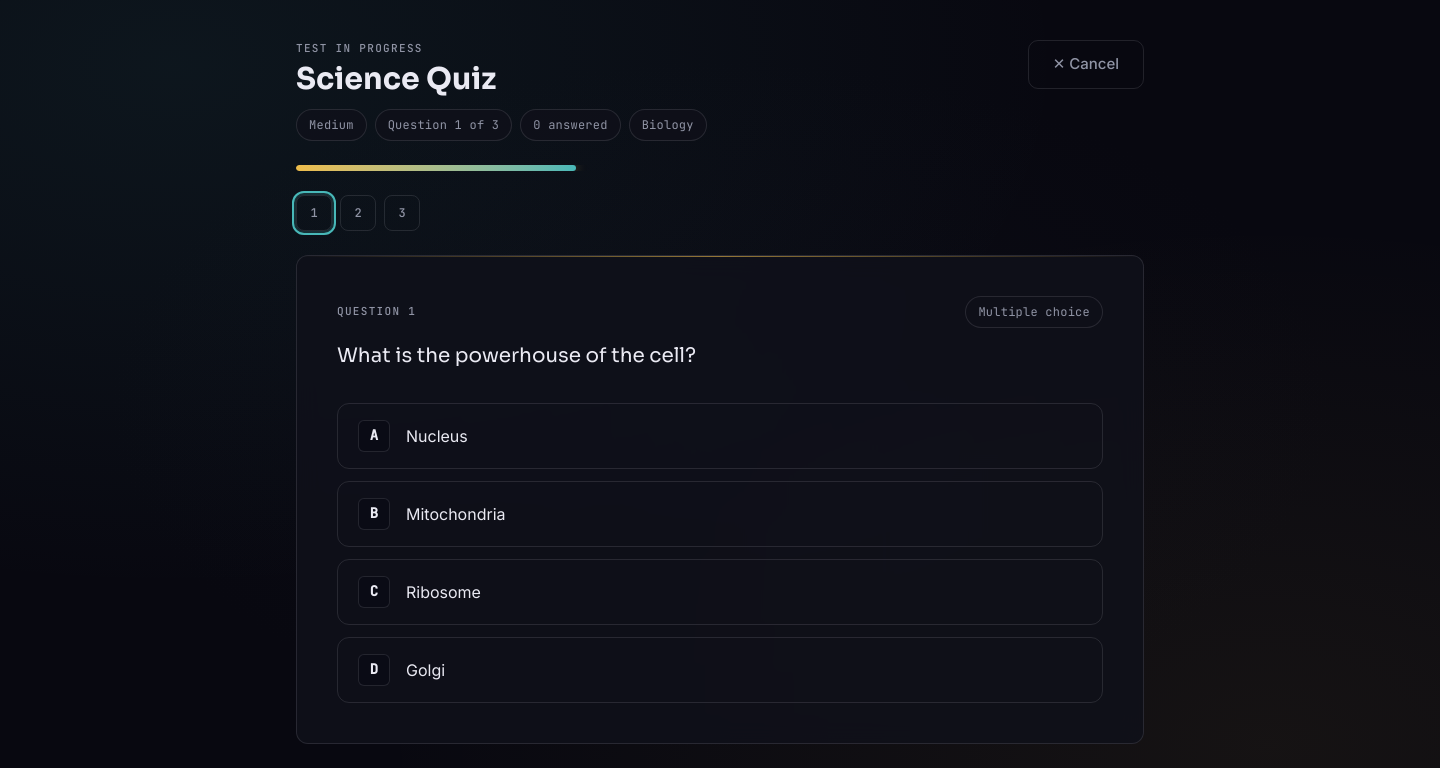
it: TakeTest › shows confirmation modal when Finish Test clicked
Expected: the heading "Science Quiz" is shown, top-left (296, 60), bottom-right (496, 98)
Click the button named "Go to question 3" at {"x": 402, "y": 212}, box top-left (384, 194), bottom-right (420, 230)
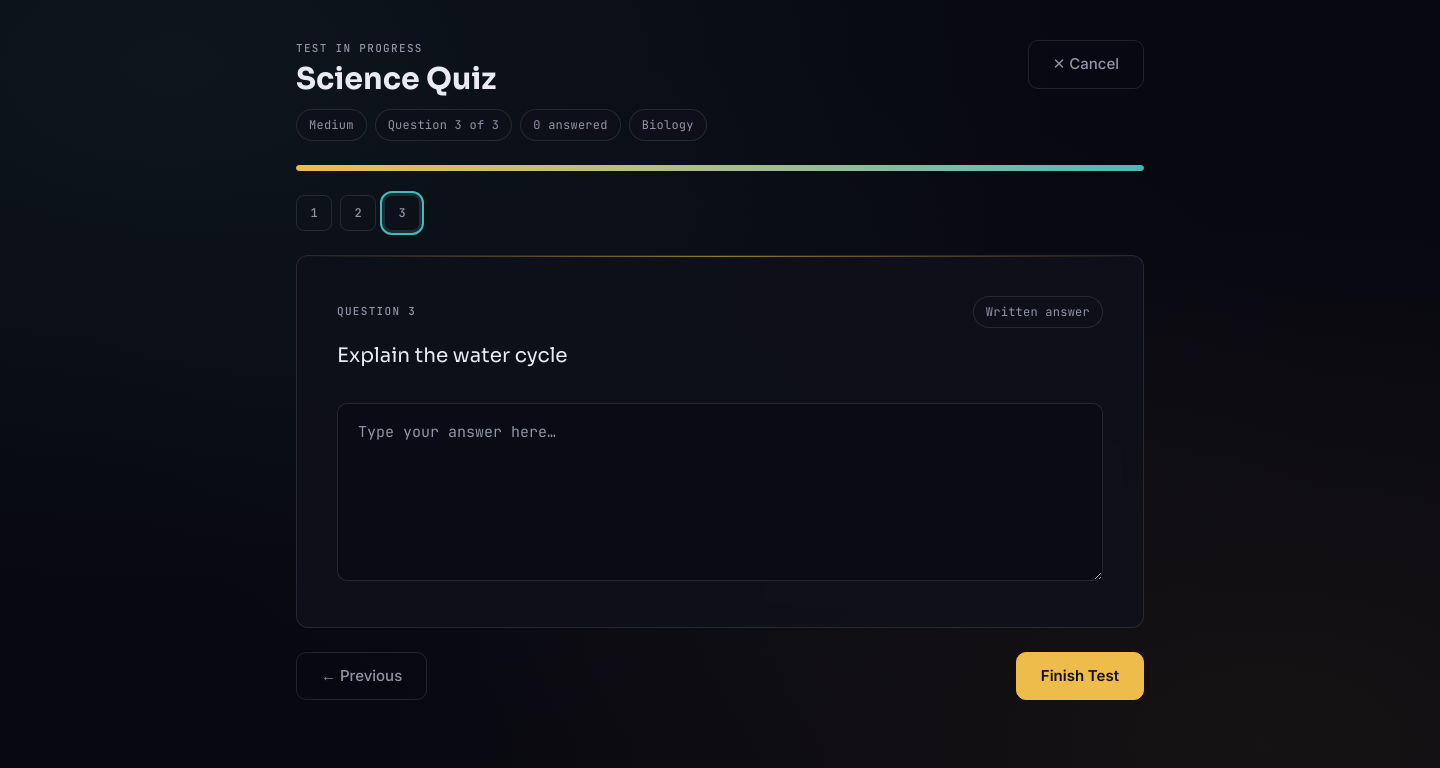
Result: the button "Finish Test" is shown
Click the button "Finish Test" at {"x": 1080, "y": 676}, box top-left (1016, 652), bottom-right (1144, 700)
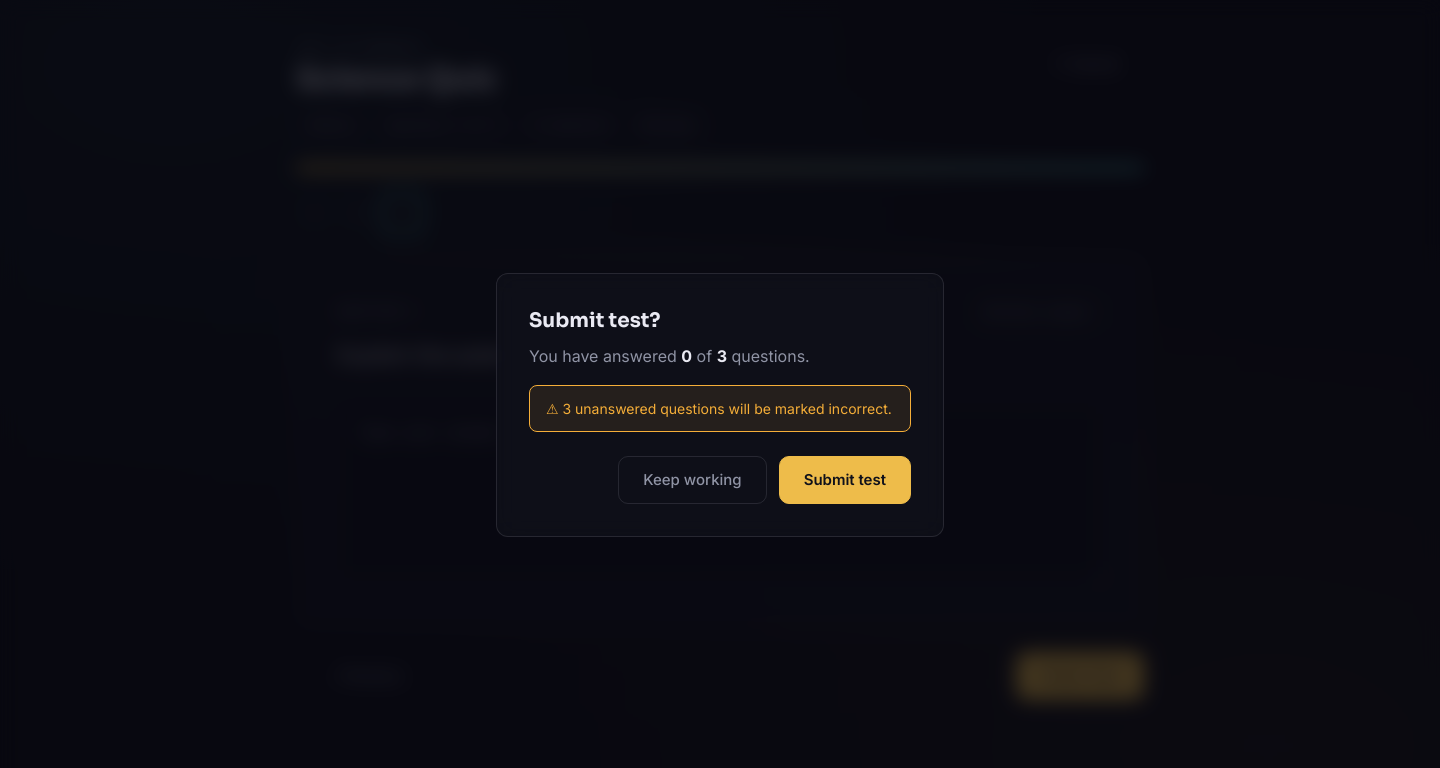
Result: the heading "Submit test?" is shown at top-left (529, 308), bottom-right (661, 333)
